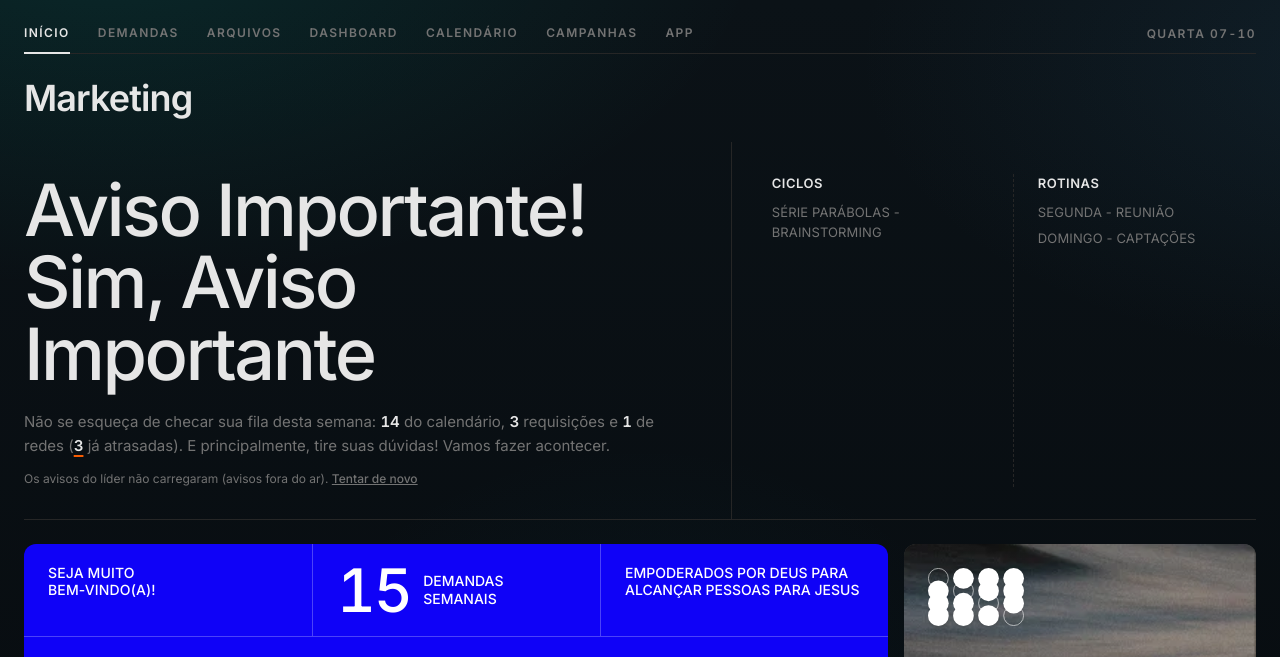
Scenario: Início · avisos com período do líder (02/10) › ⚠️ os avisos não carregaram: a abertura diz, com o motivo, e deixa tentar de novo
Expected: the text "Os avisos do líder não carregaram (avisos fora do ar). Tentar de novo" is shown, [24,471,418,487]
What coordinates should you click on to do the following:
click the button "Tentar de novo"
I would click on:
 (375, 479)
Its box is [332,471,418,487].
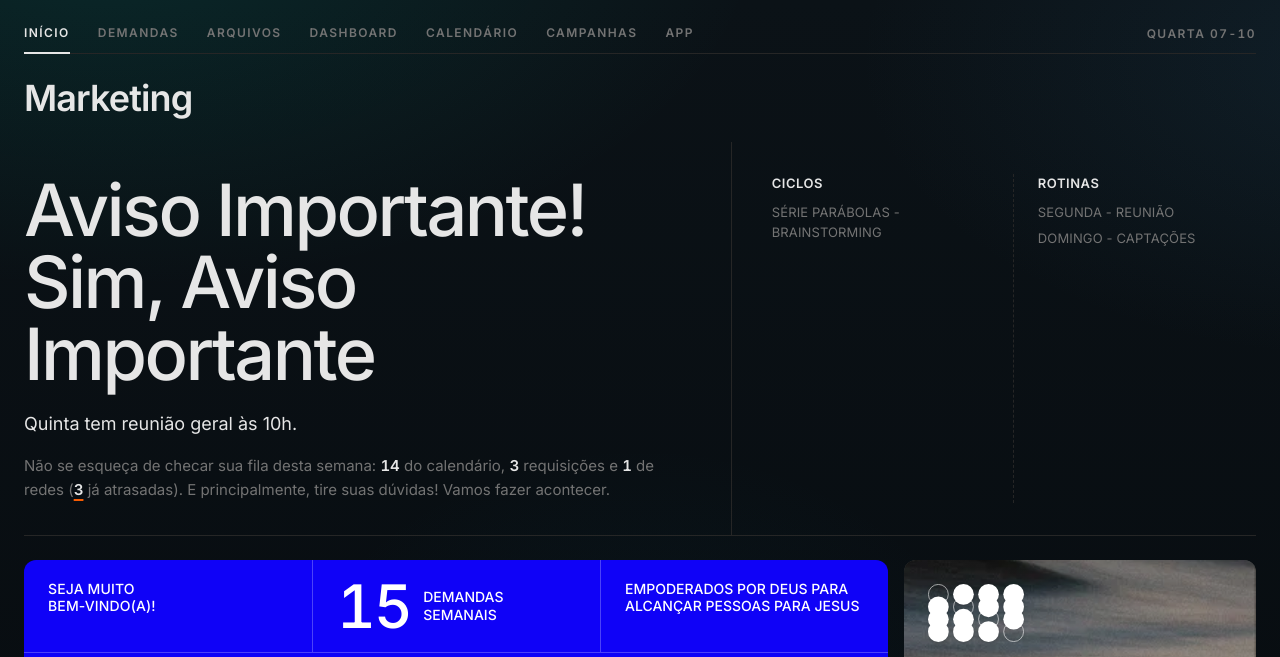
Result: the text "Quinta tem reunião geral às 10h." is shown at [24,413,297,434]
Result: the text "Os avisos do líder não carregaram" is gone
